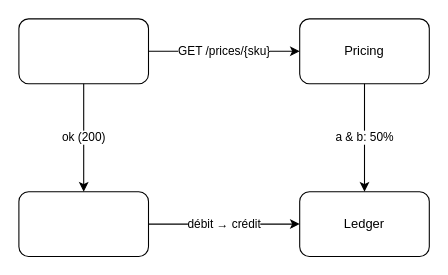
The diagram is 448 pixels wide and 275 high, and some of its shapes have lost their labels. The centre of each missing label's shape, as x and y in pixels:
Café Service: [83,223]
Cart & Checkout: [83,51]
